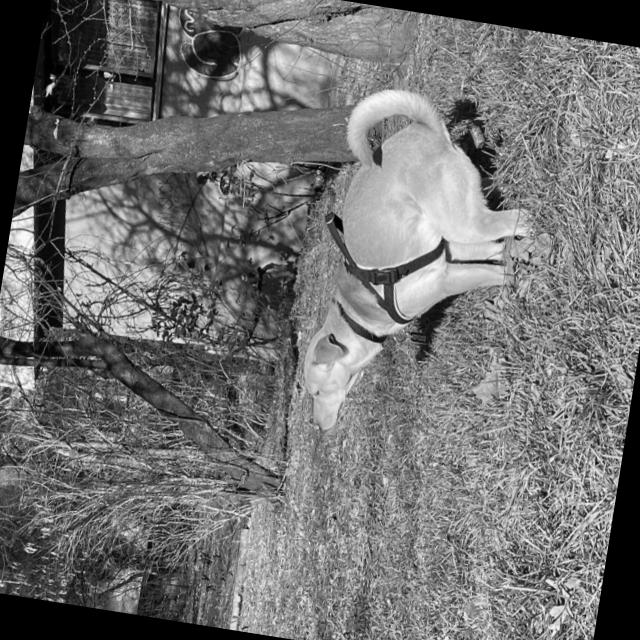squatting: (289, 66, 556, 466)
